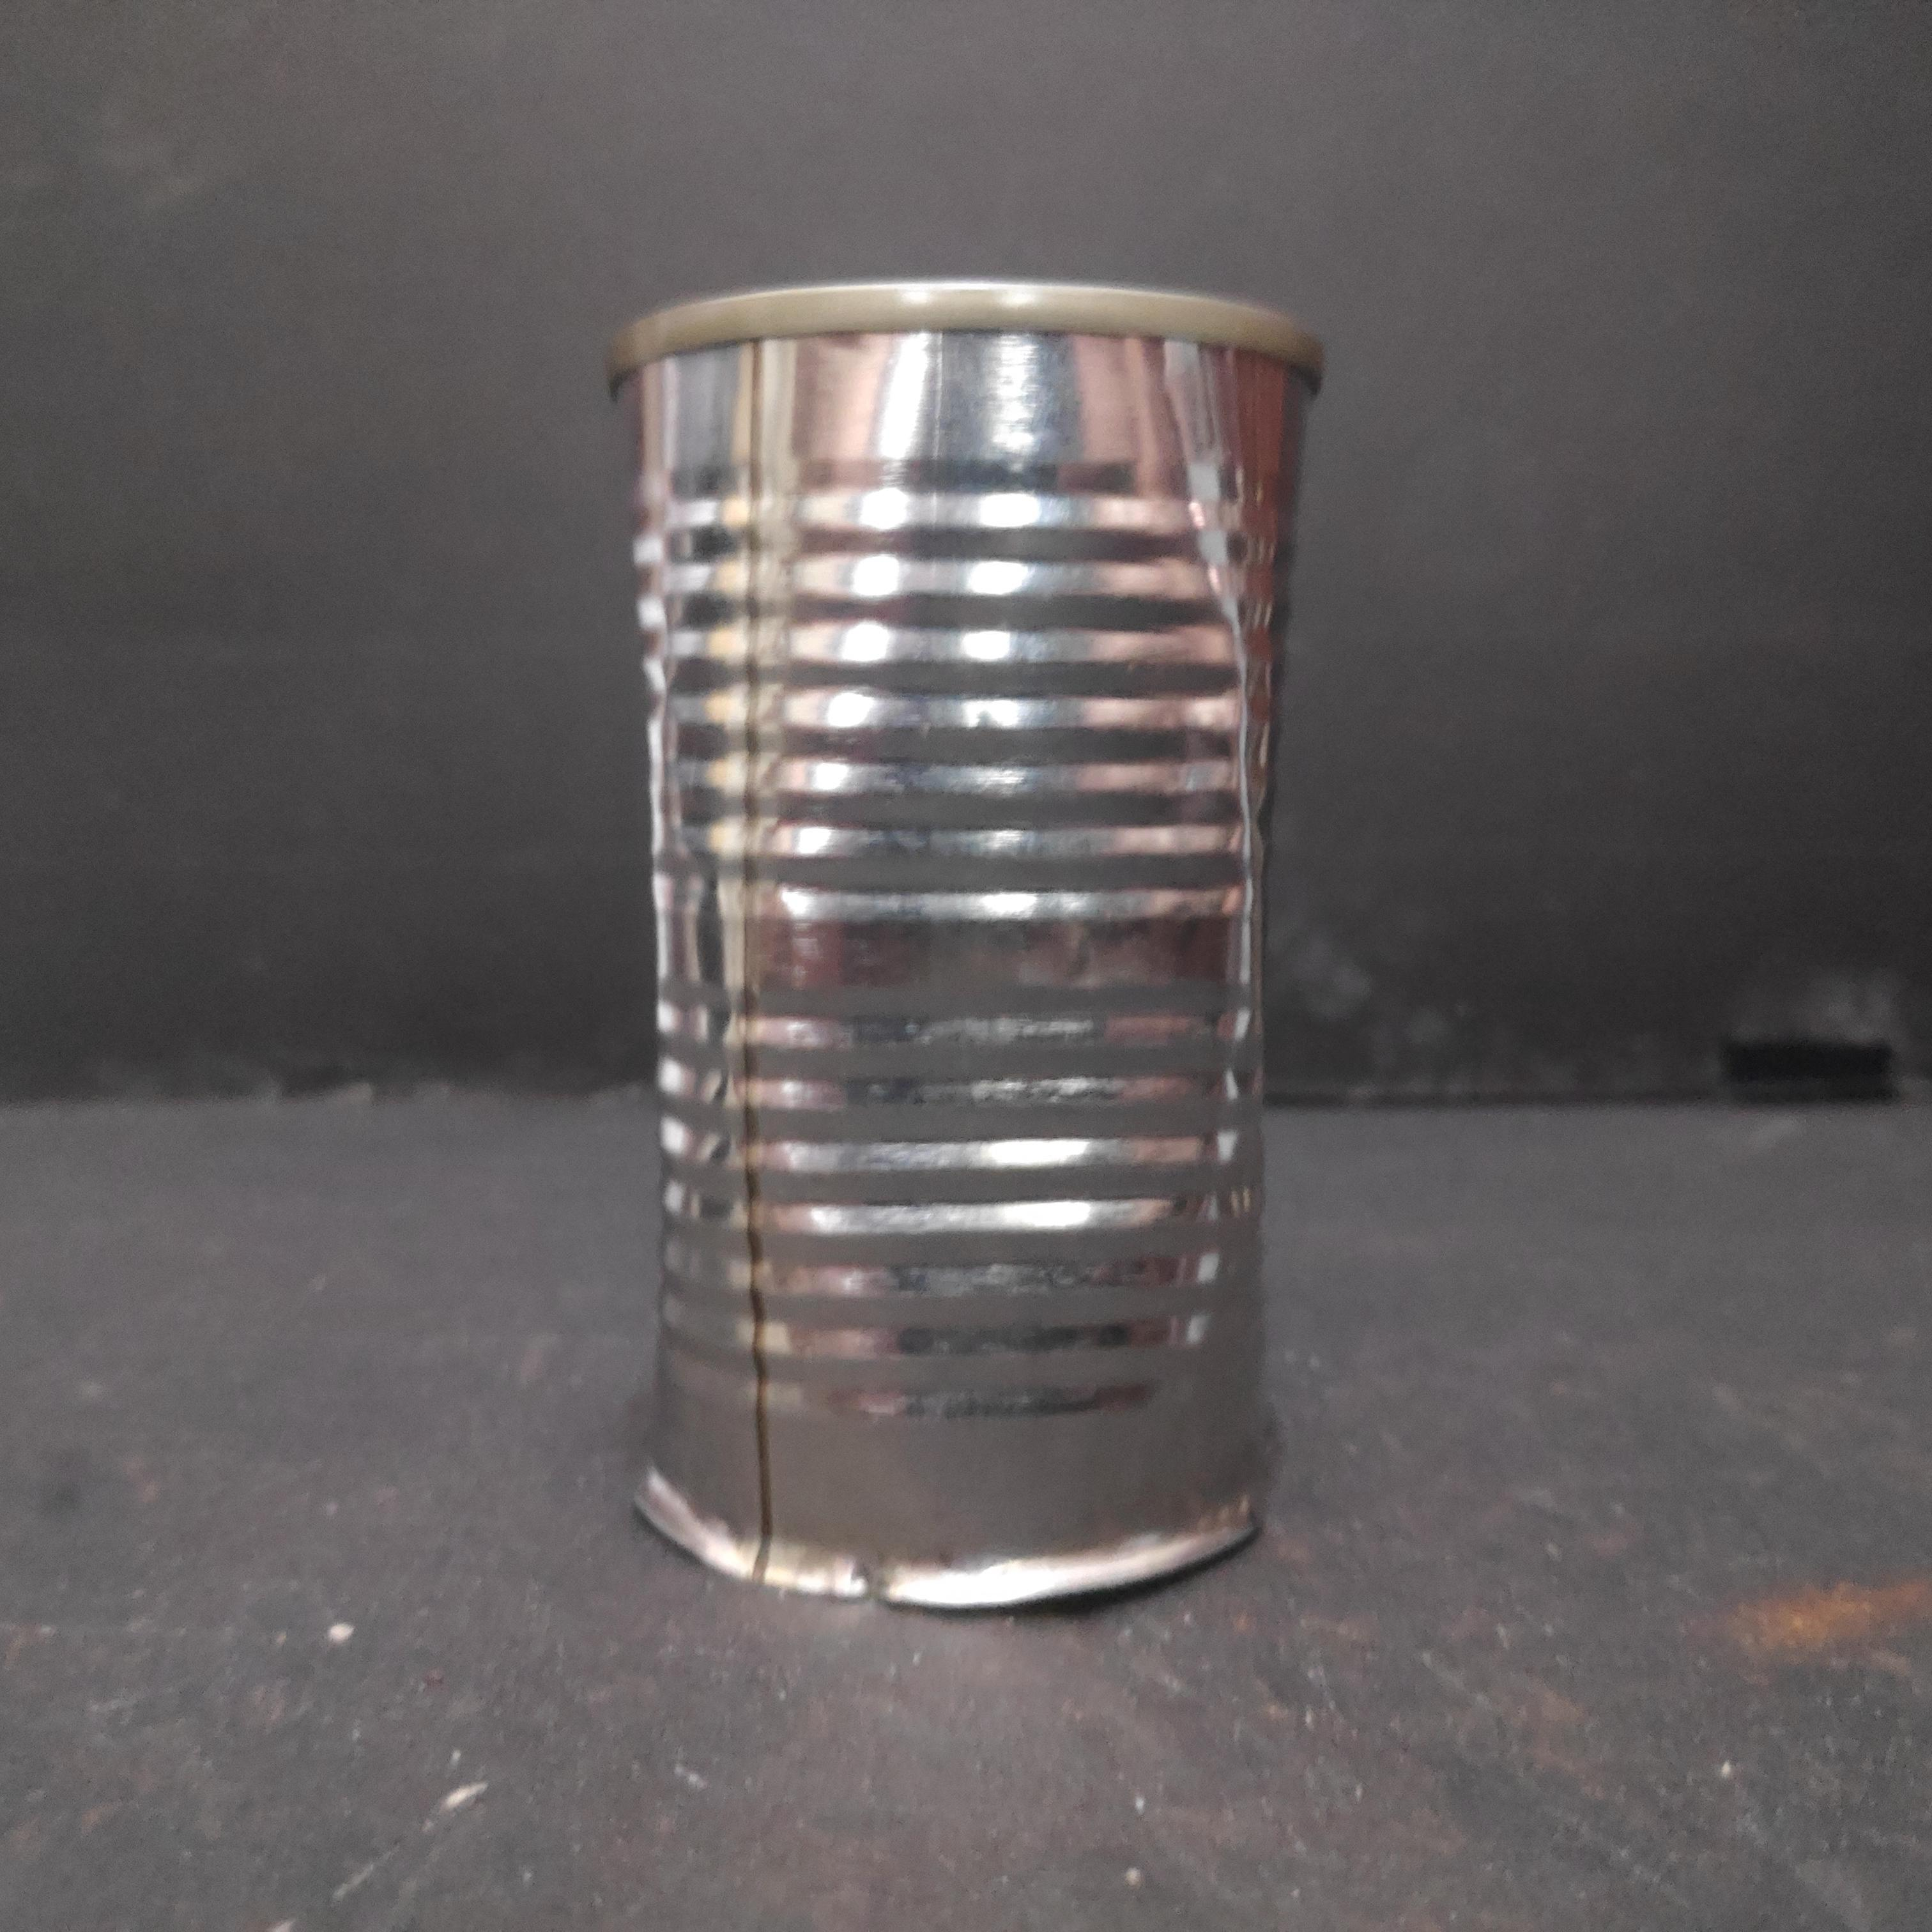Minor Defect: (594, 276, 1327, 1624)
